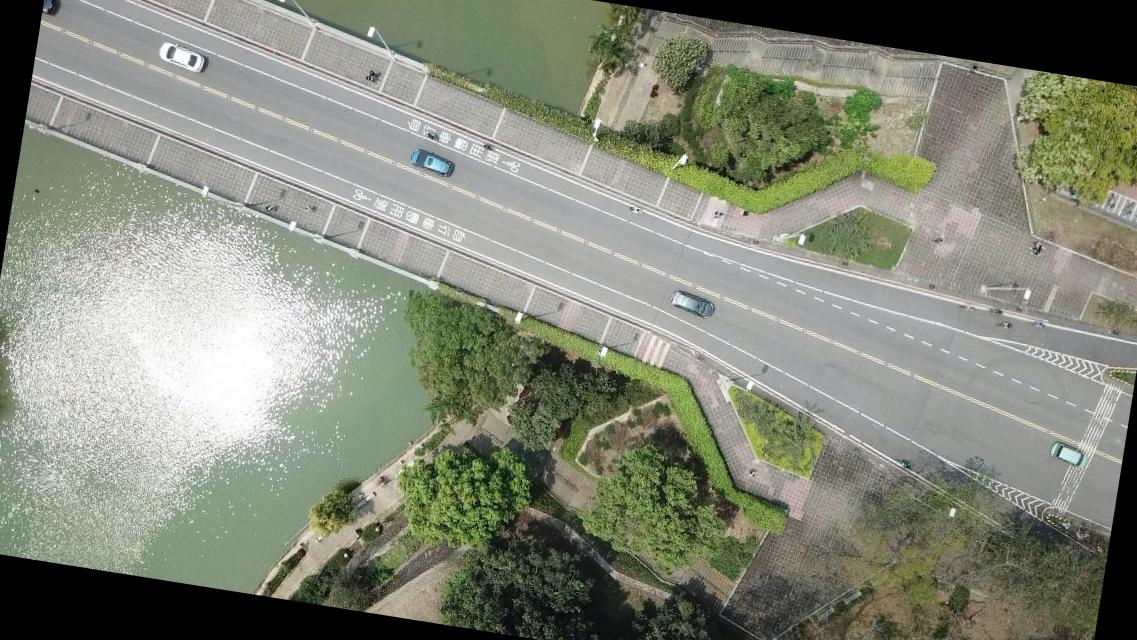vehicle: (156, 40, 206, 74), (668, 288, 716, 320), (406, 146, 455, 177), (1048, 440, 1090, 468), (41, 0, 59, 17)
